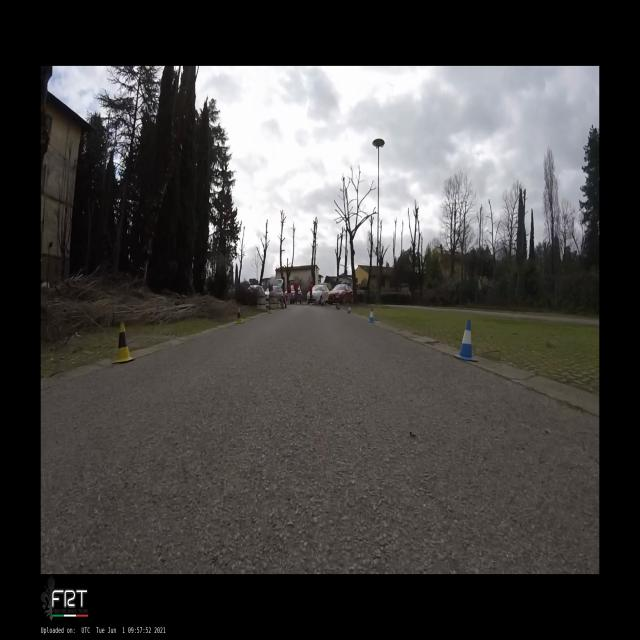blue_cone: (453, 319, 478, 362), (368, 307, 374, 323), (348, 306, 350, 314)
yellow_cone: (112, 322, 136, 364), (235, 308, 243, 323), (268, 304, 272, 312)
